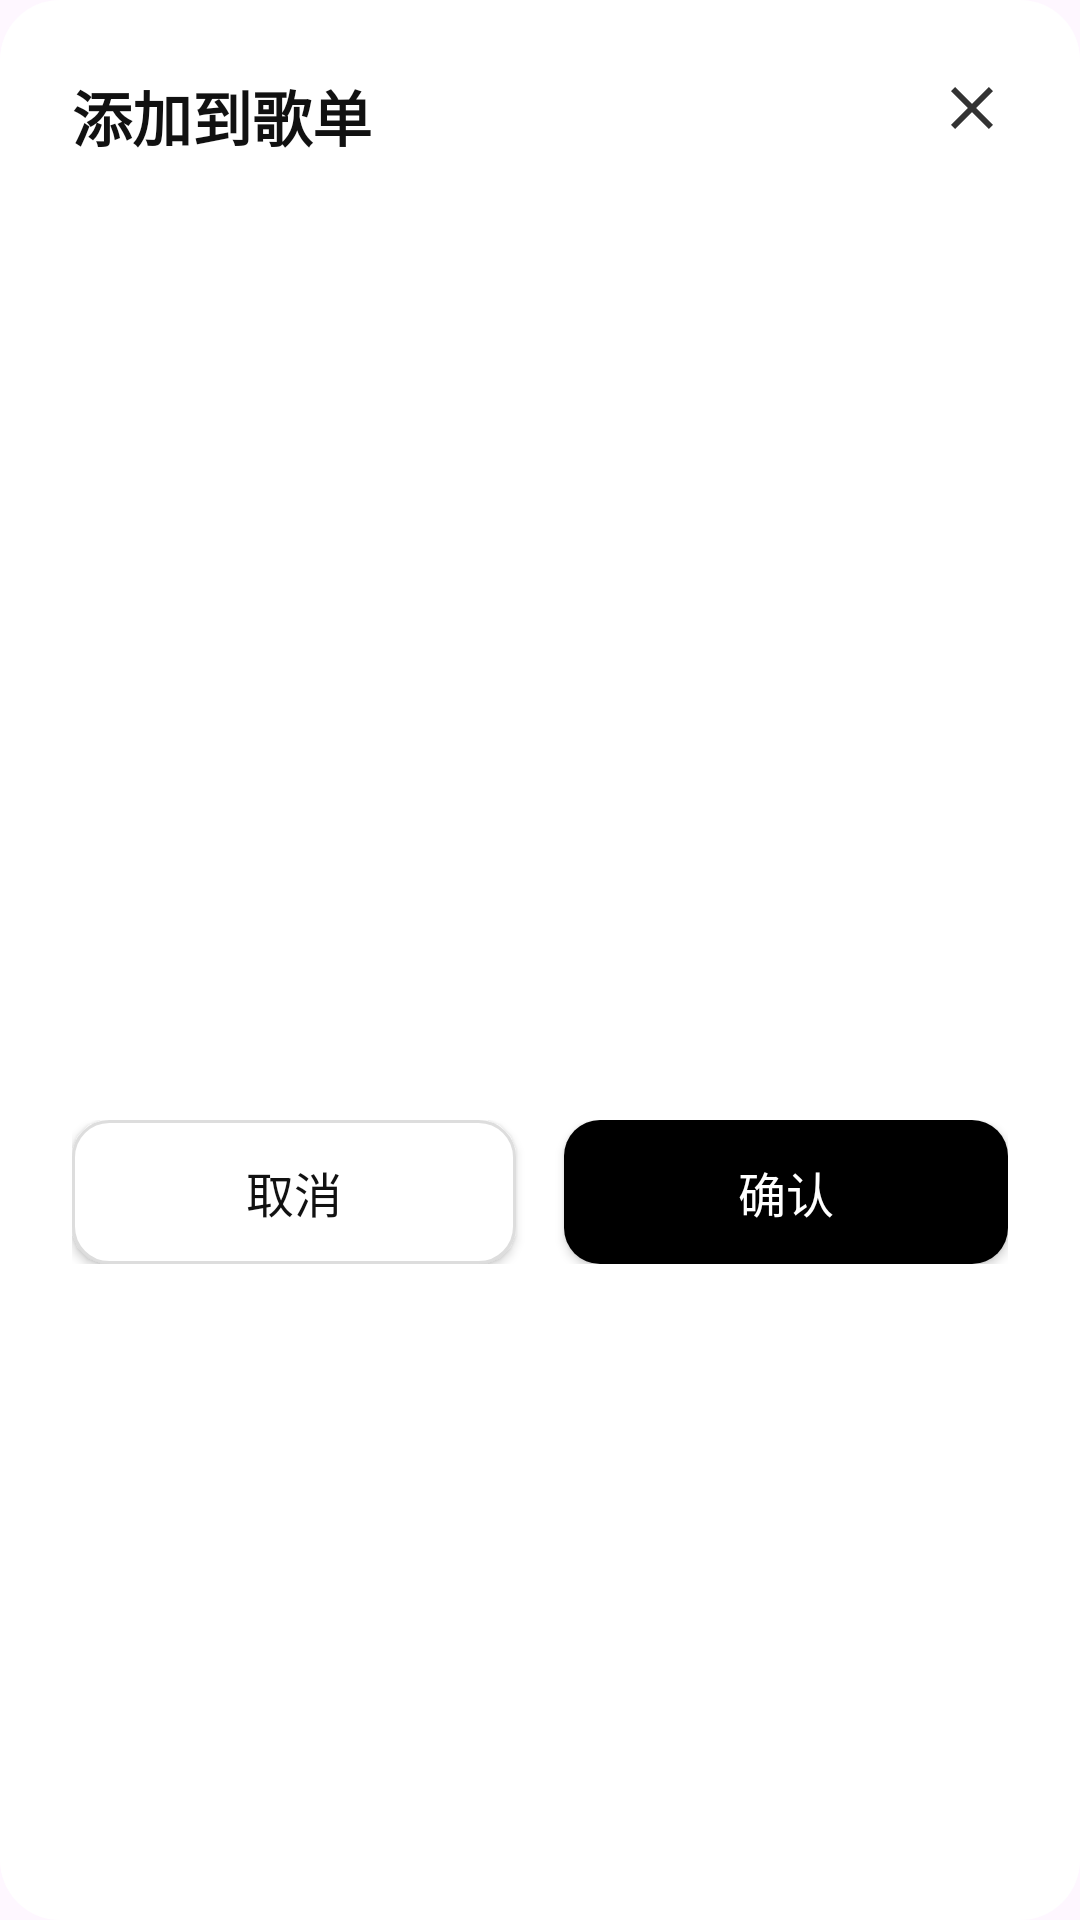

Where to tap for icons on this 1080×1920 app screen, as (x=x, y=y):
关闭弹窗: (x=972, y=108)
